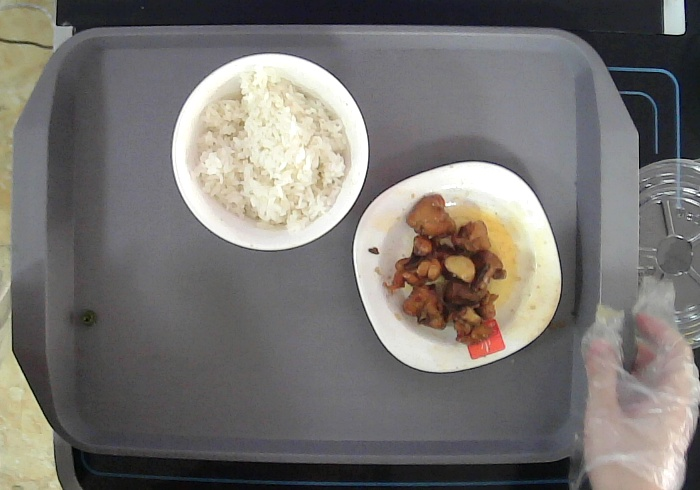SHKJ-Bai_Se_Si_Fang_Cai_Die: (353, 160, 561, 374)
SHKJ-Fan_Wan: (171, 52, 369, 252)
